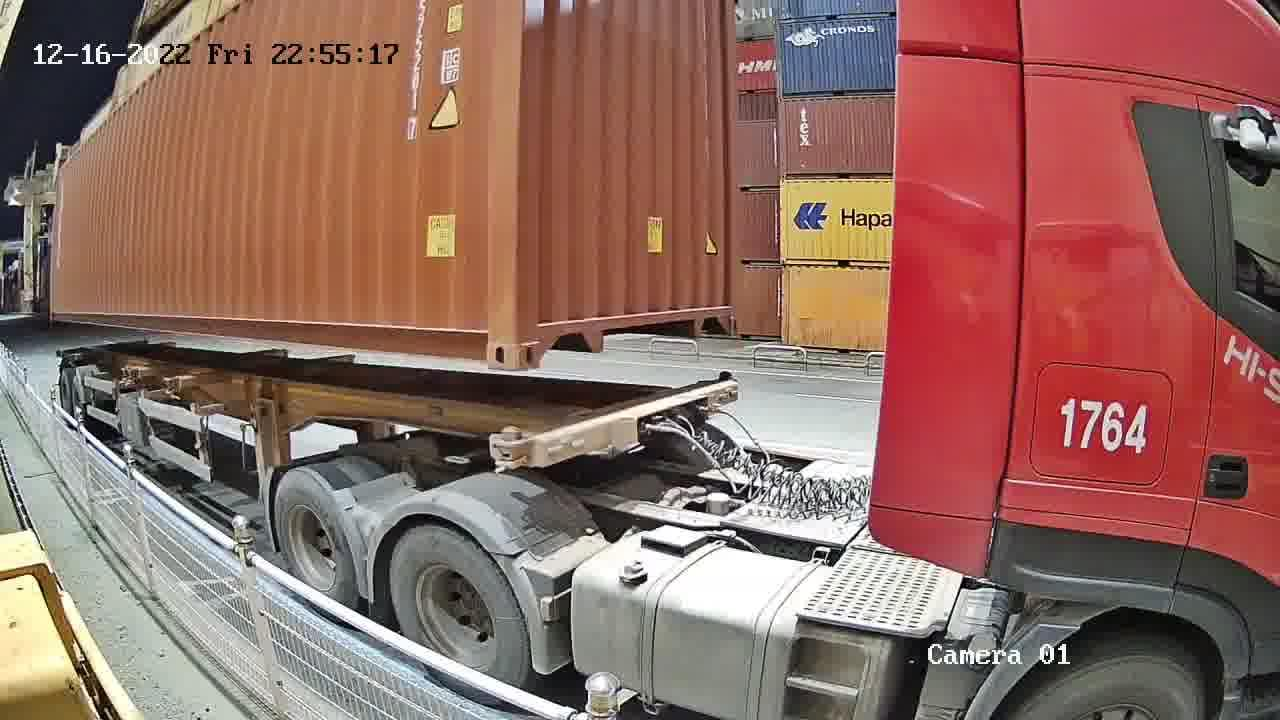Chassis: (533, 379, 737, 466)
Cone: (493, 422, 528, 467), (718, 368, 738, 400)
Hole_L: (518, 306, 568, 371)
Hole_R: (457, 306, 516, 372), (699, 274, 739, 336)
Tire: (389, 521, 527, 684), (273, 475, 353, 601)
